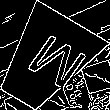M_SW: (9, 27, 82, 94)
